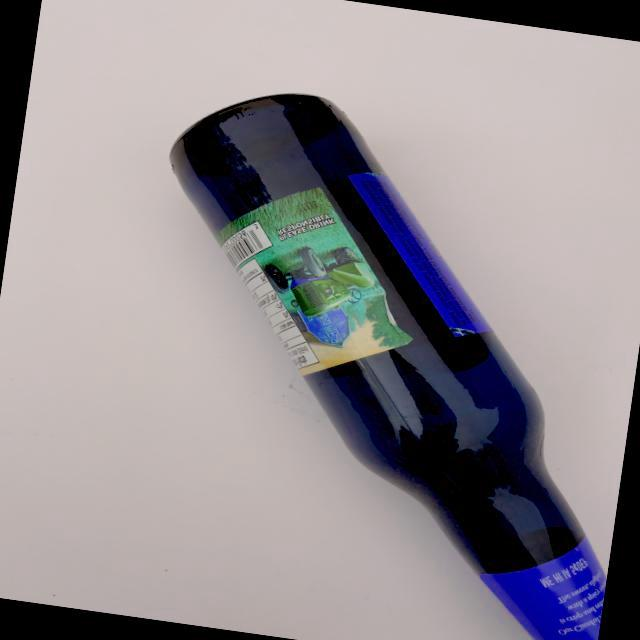glass: (86, 64, 640, 640)
